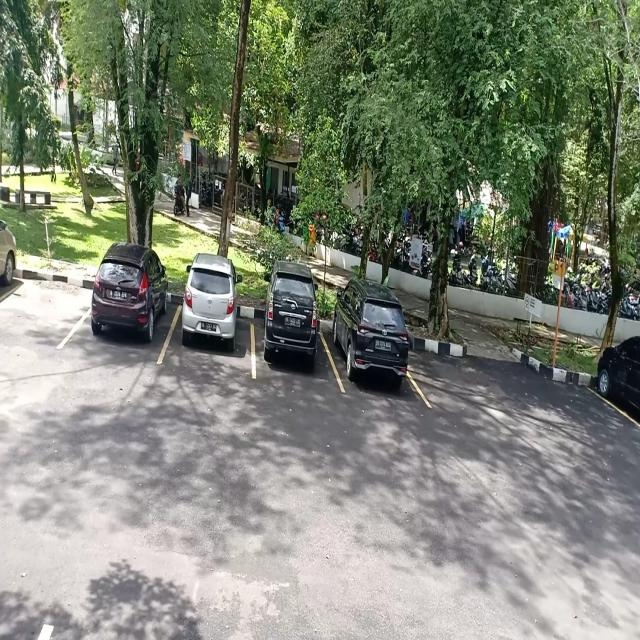empty: (0, 260, 86, 354)
occupied: (82, 260, 174, 364), (328, 301, 416, 395), (172, 282, 254, 366), (252, 290, 330, 374)
